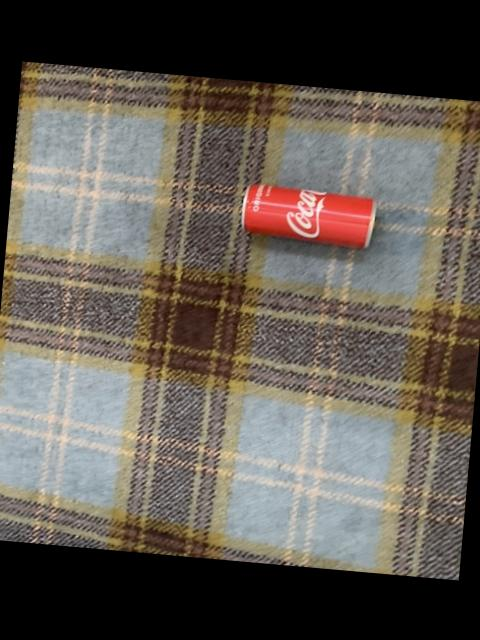metal: (243, 182, 377, 245)
